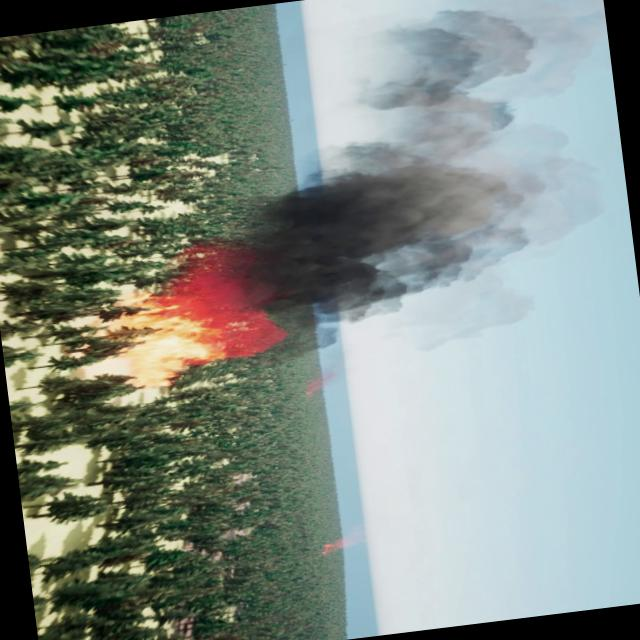fire: (104, 234, 276, 390)
smoke: (233, 0, 640, 368), (297, 366, 352, 401), (315, 530, 369, 556)
